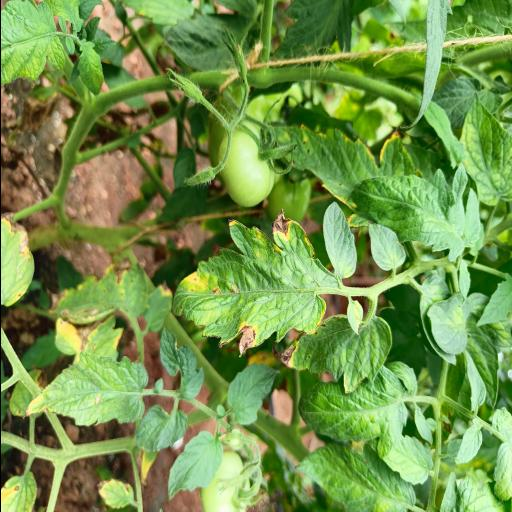Early Blight: (166, 206, 328, 360), (270, 312, 392, 396)
